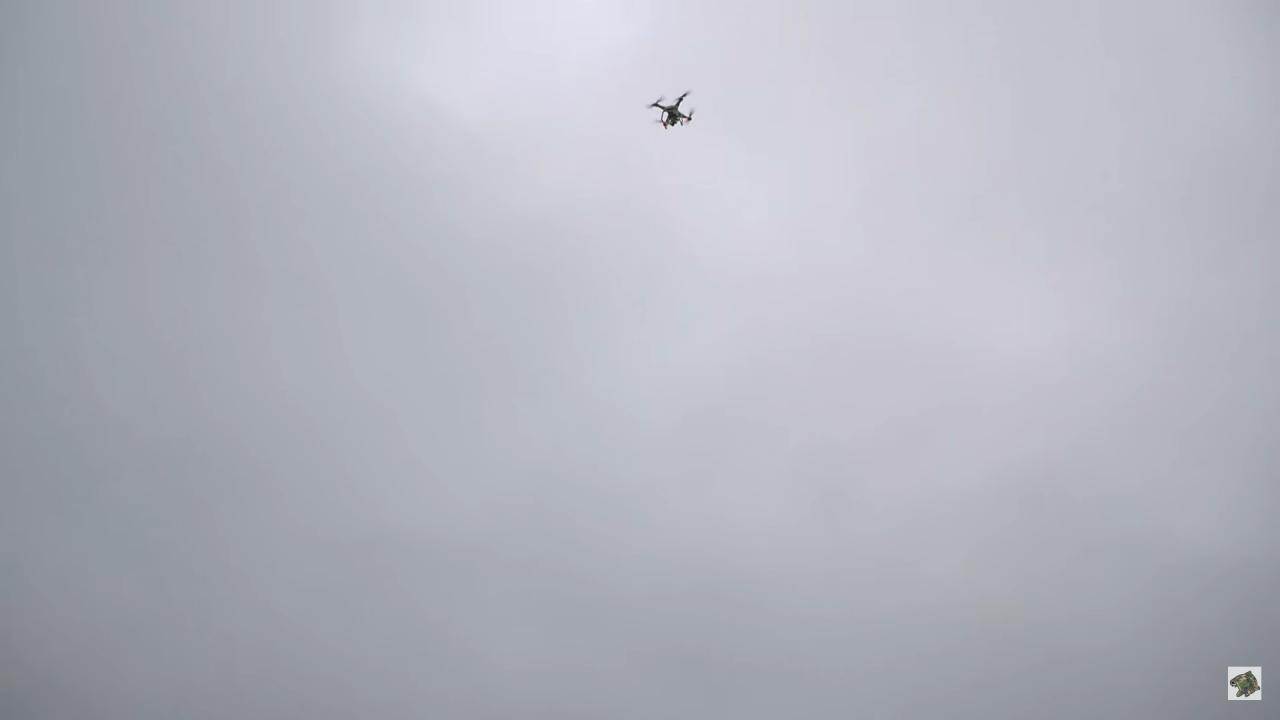Drone: (639, 85, 712, 137)
